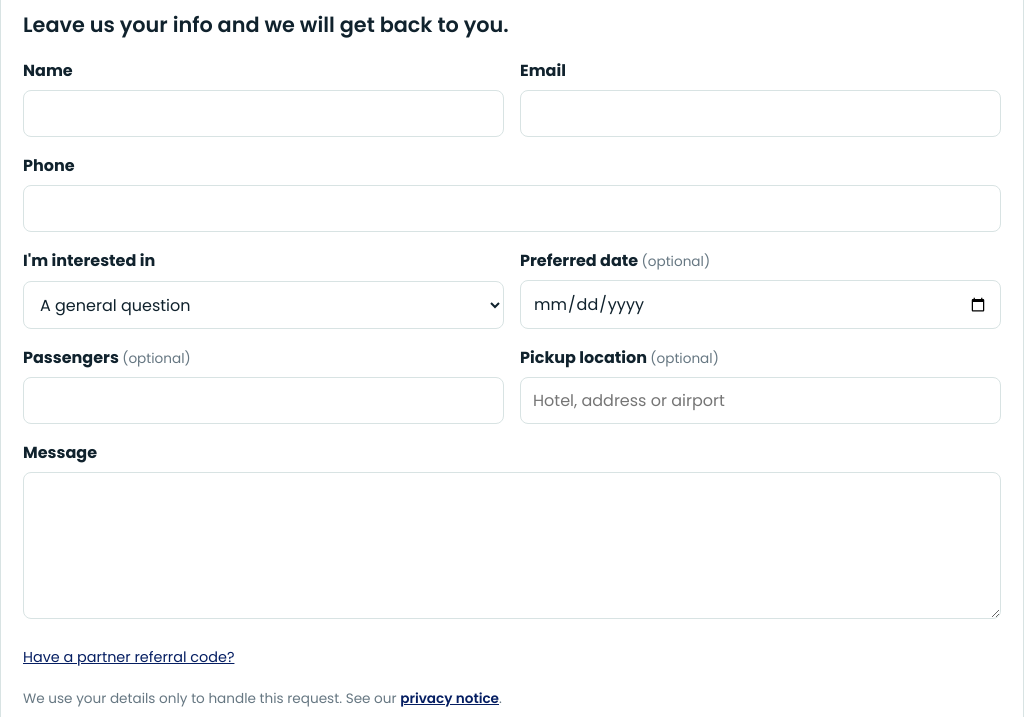
Scenario: website enquiry form › confirms only after the enquiry is saved, and retries reuse the same idempotency key
In the field labelled "Name": (264, 114) [23,90,504,138], type "Thandi Nkosi"
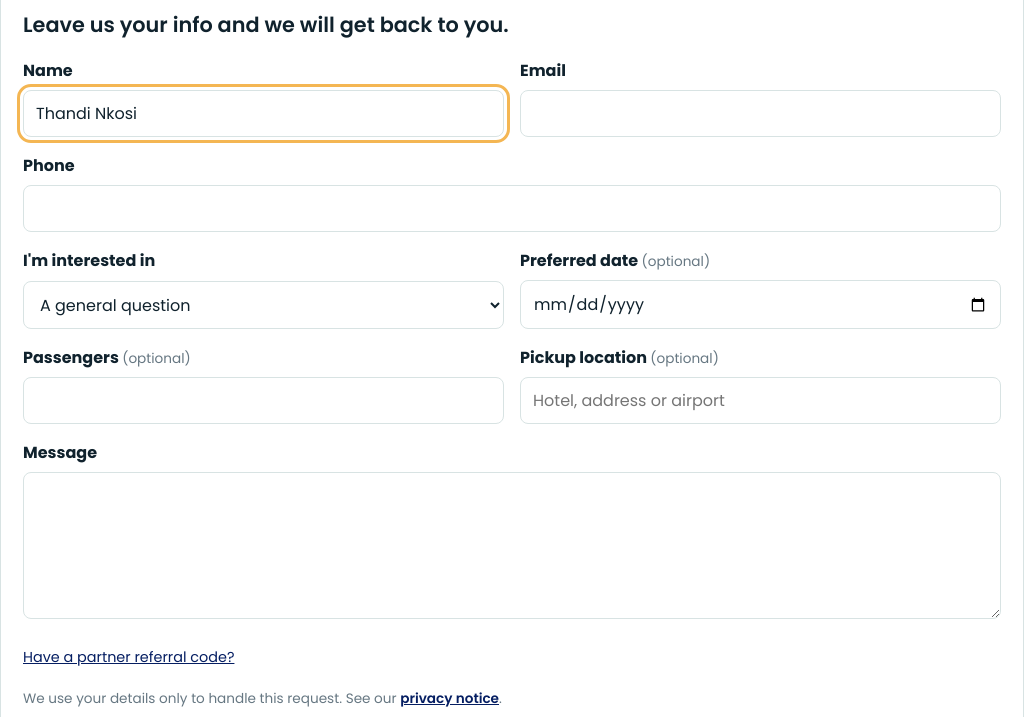
In the field labelled "Email": (760, 114) [520,90,1001,138], type "thandi@example.com"
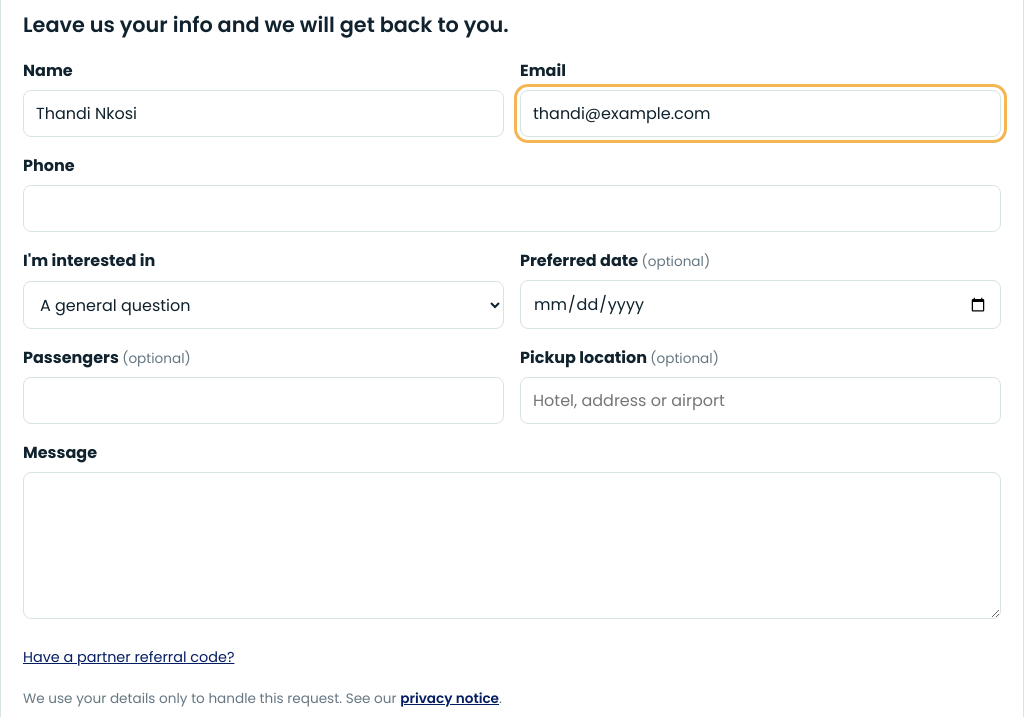
In the text box labelled "Message": (512, 546) [23,472,1001,620], type "Can you collect us from the airport?"
(page scrolled)
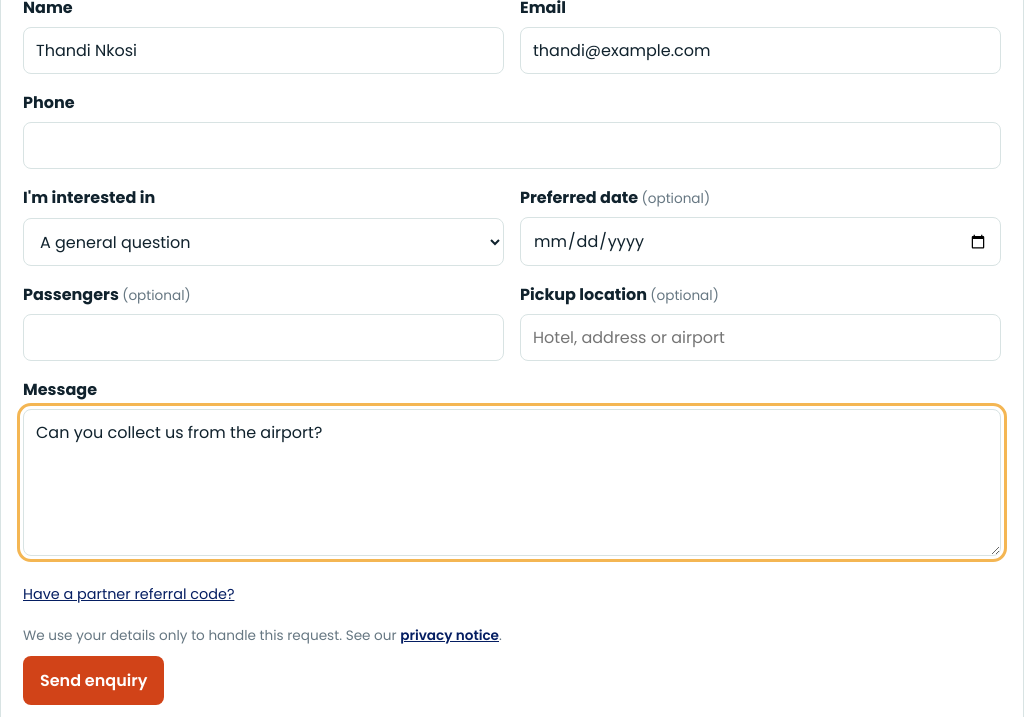
Click the button "Send enquiry": (94, 680) [23,656,164,705]
(page scrolled)
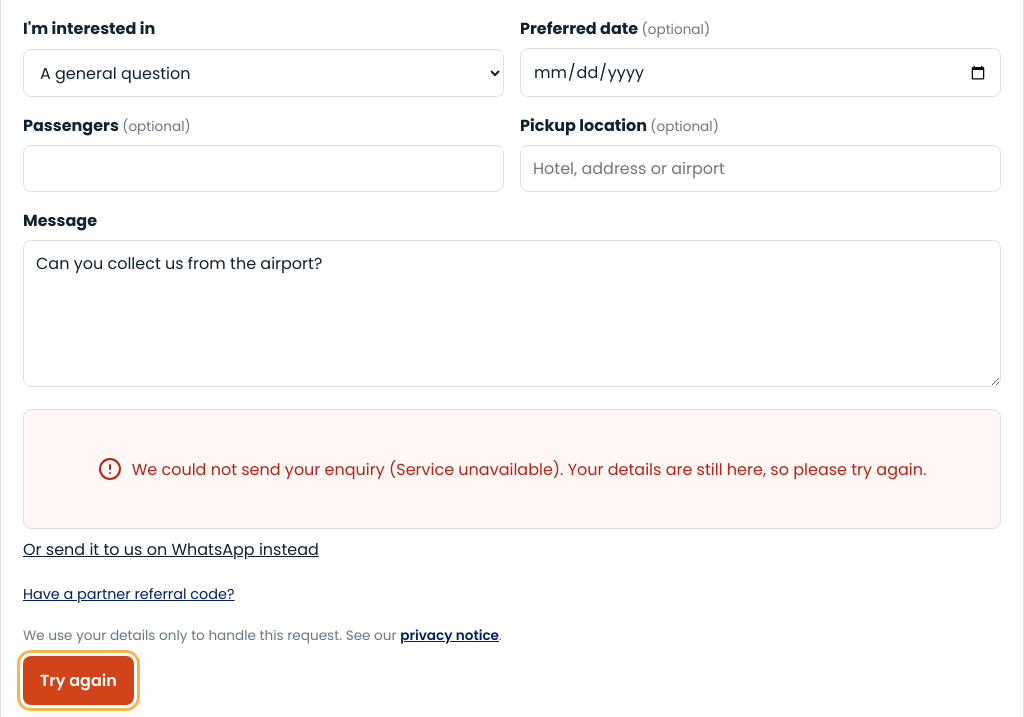
Expected: the text "Enquiry received" is not shown
Now the text "could not send your enquiry" is shown, box [132,458,926,481]
Click the button "Try again": (78, 680) [23,656,134,705]
(page scrolled)
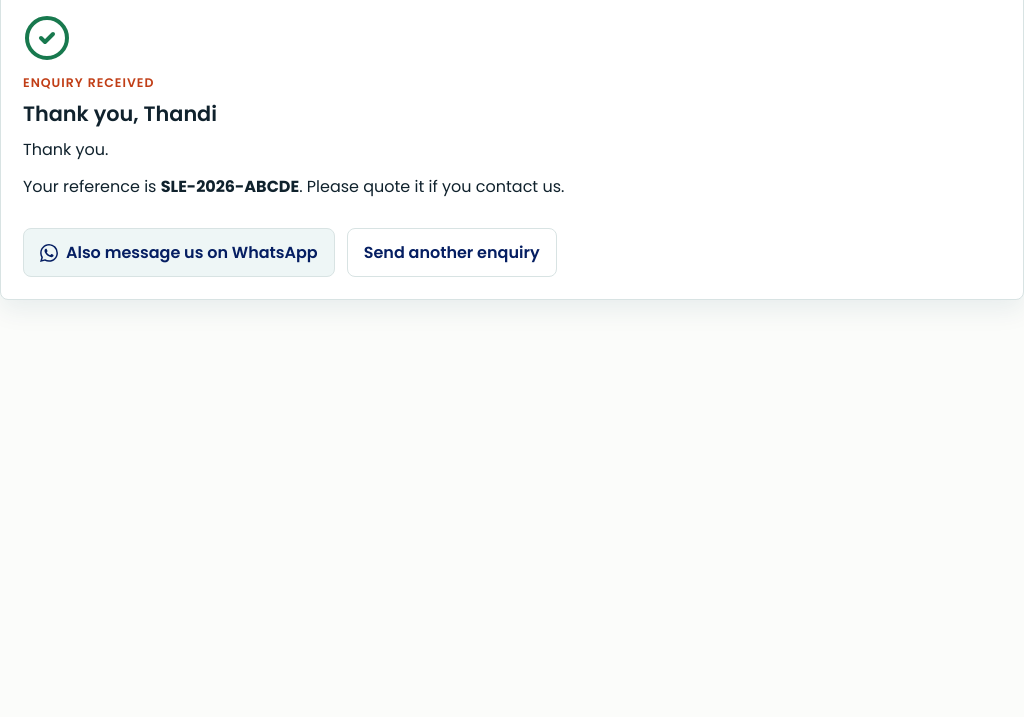
Now the text "Enquiry received" is shown, box [23,72,154,93]
Now the text "SLE-2026-ABCDE" is shown, box [161,175,299,198]
